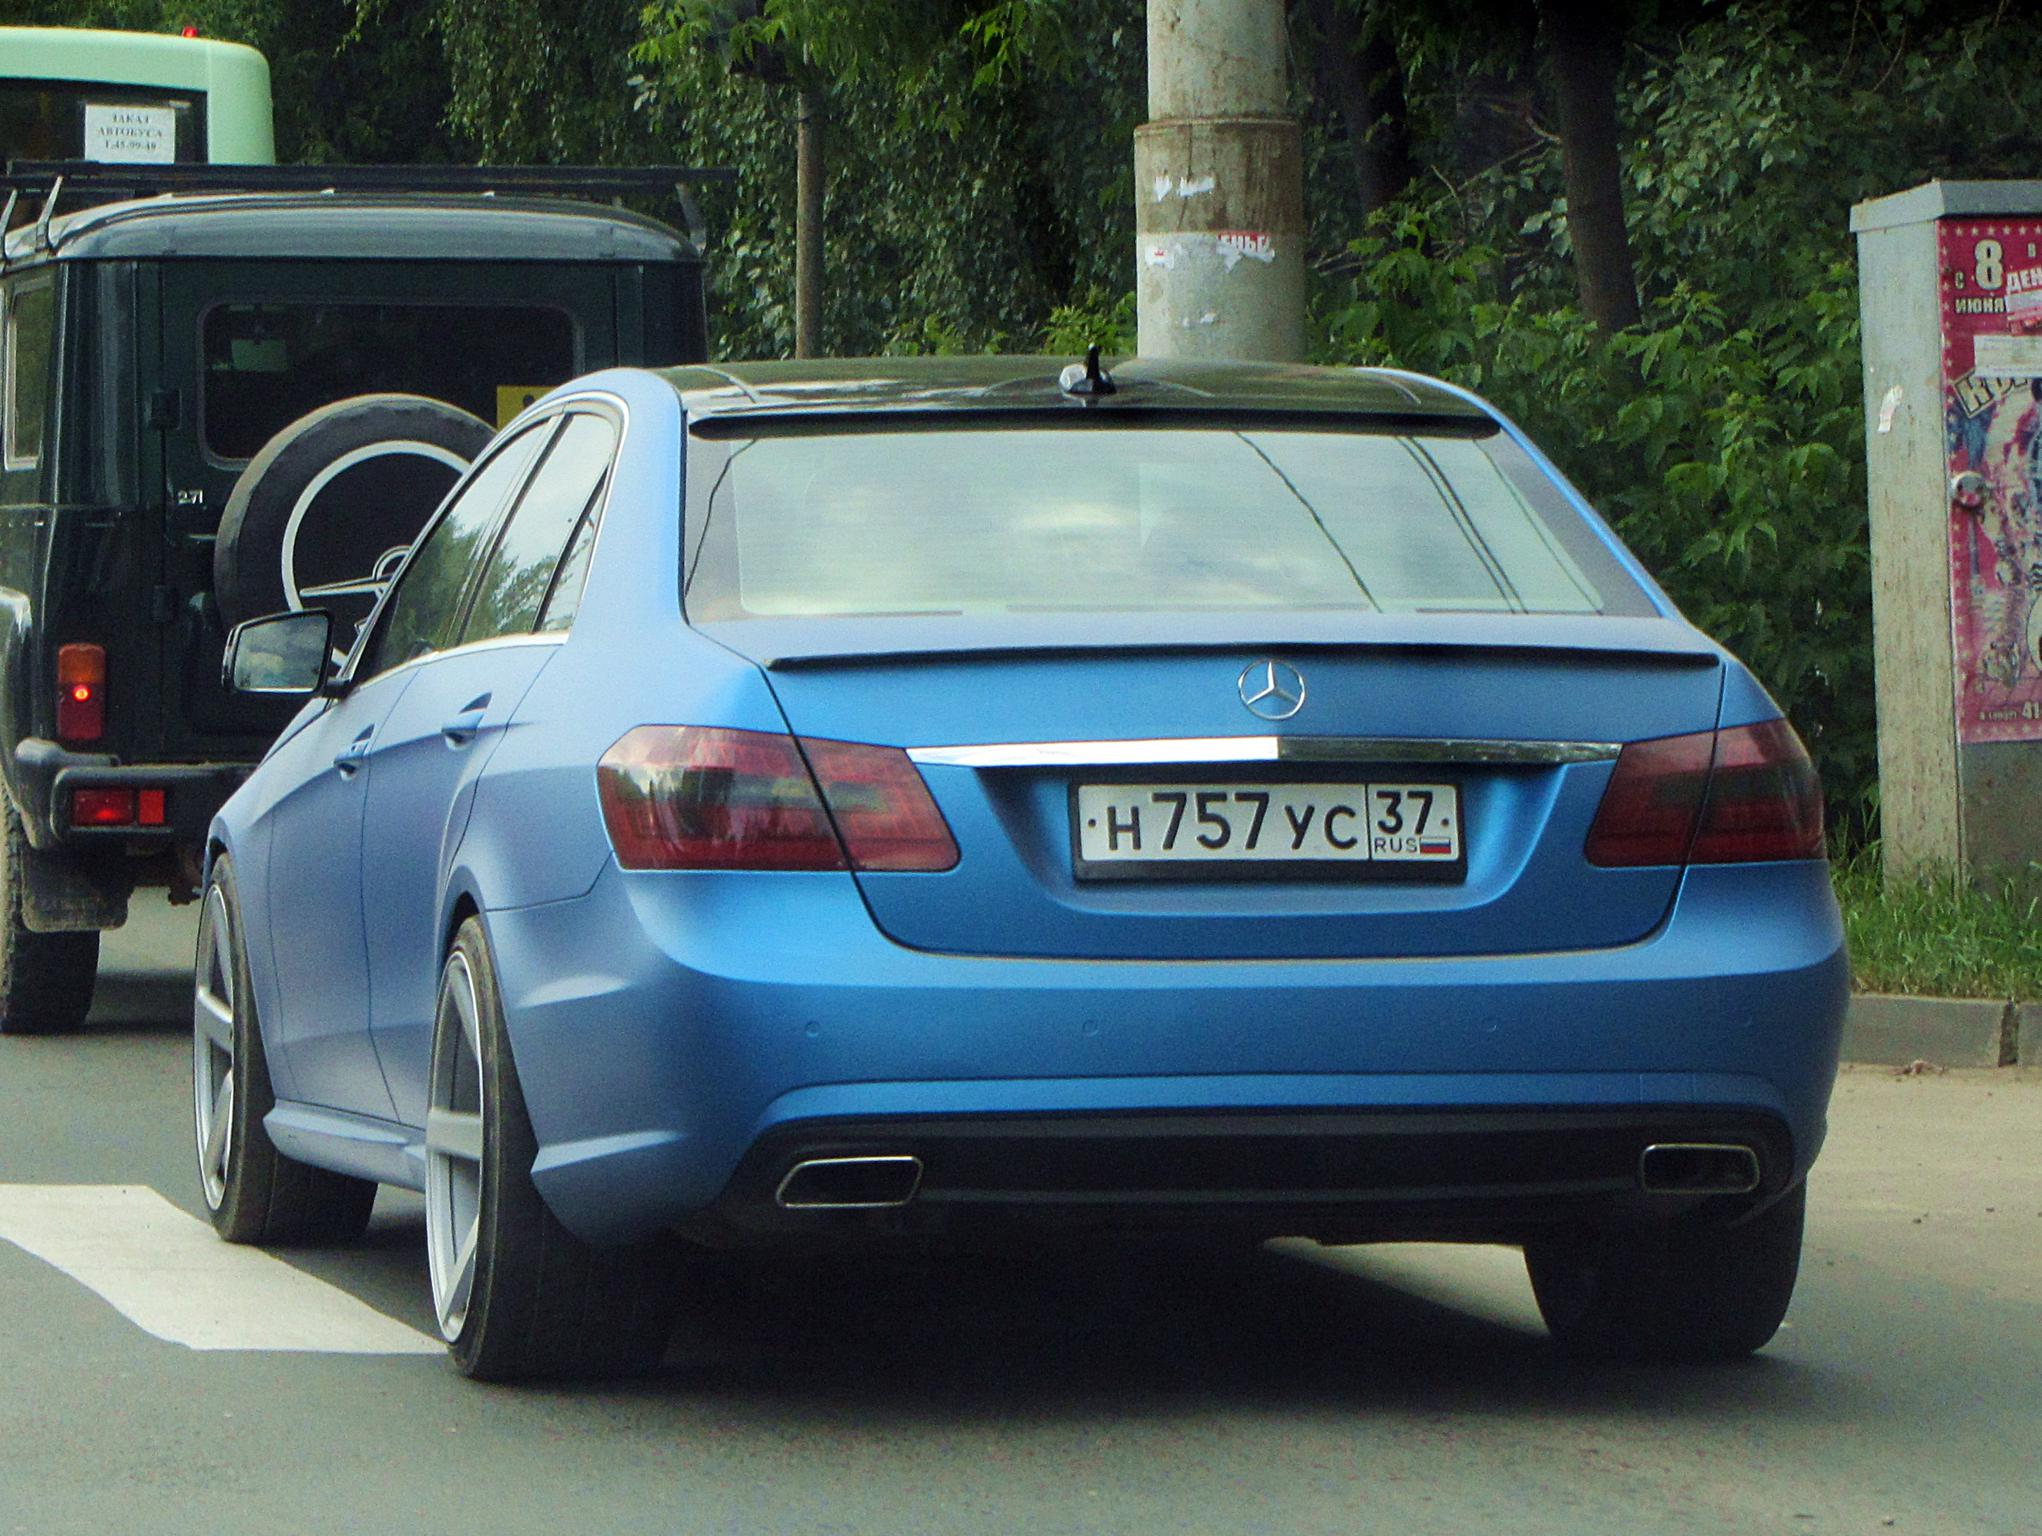number_plate: (1086, 779, 1451, 874)
